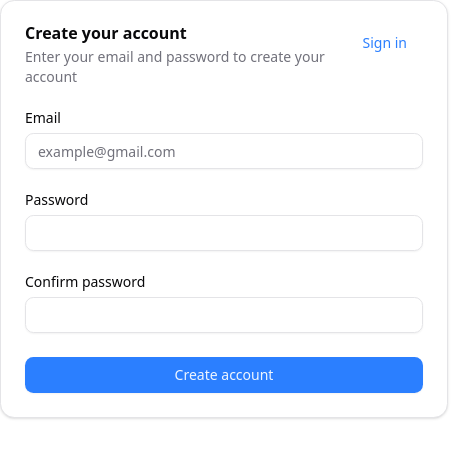
Test: SignUpForm › should display validation error for mismatching passwords
In the field labelled "Email": coordinates (224, 151) [25, 133, 423, 169], type "test@example.com"
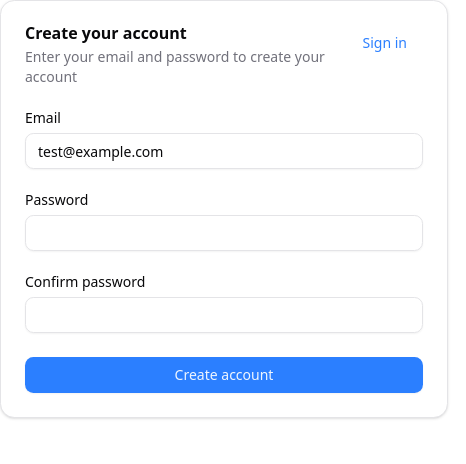
In the password field labelled "Password": coordinates (224, 233) [25, 215, 423, 251], type "password123"
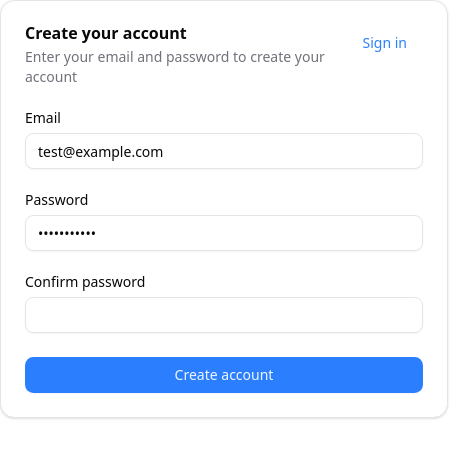
In the password field labelled "Confirm password": coordinates (224, 315) [25, 297, 423, 333], type "password456"
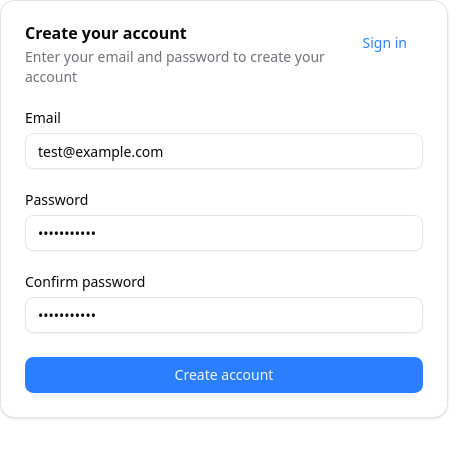
Click the button "Create account": coordinates (224, 375) [25, 357, 423, 393]
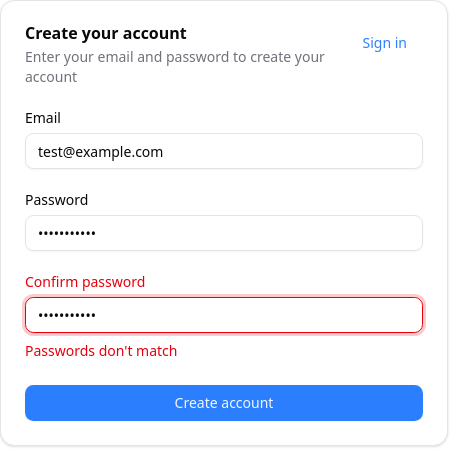
Expected: the text "Passwords don't match" is shown, [25, 341, 178, 360]
